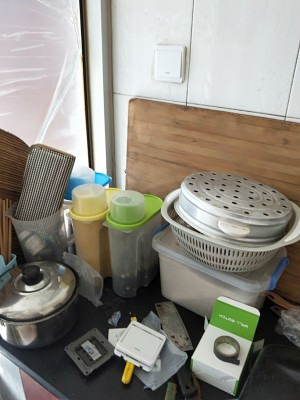switch: (154, 52, 186, 76)
